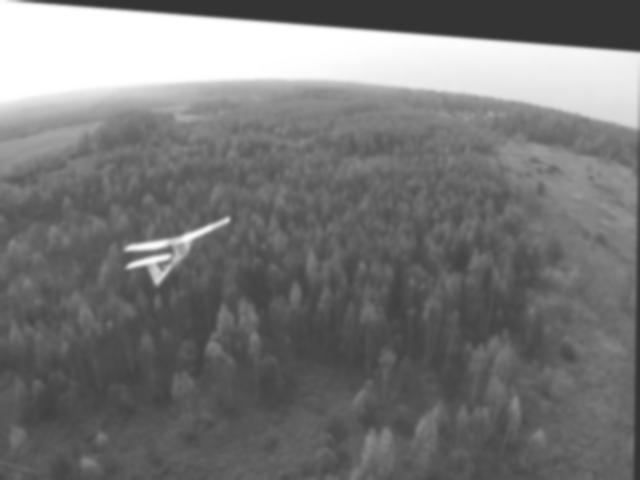hedef: (116, 207, 237, 296)
